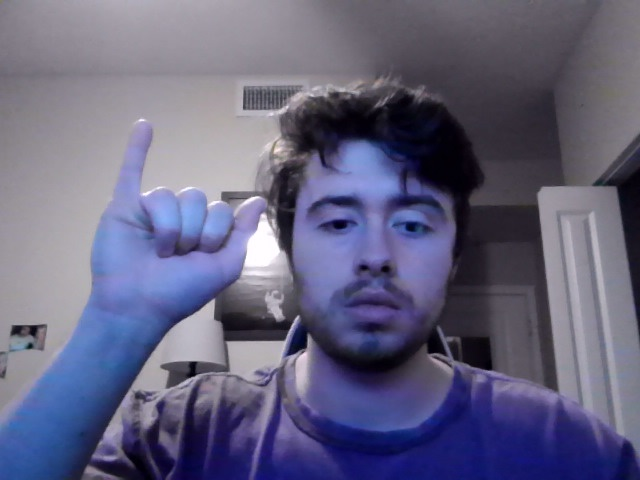i: (89, 117, 268, 335)
